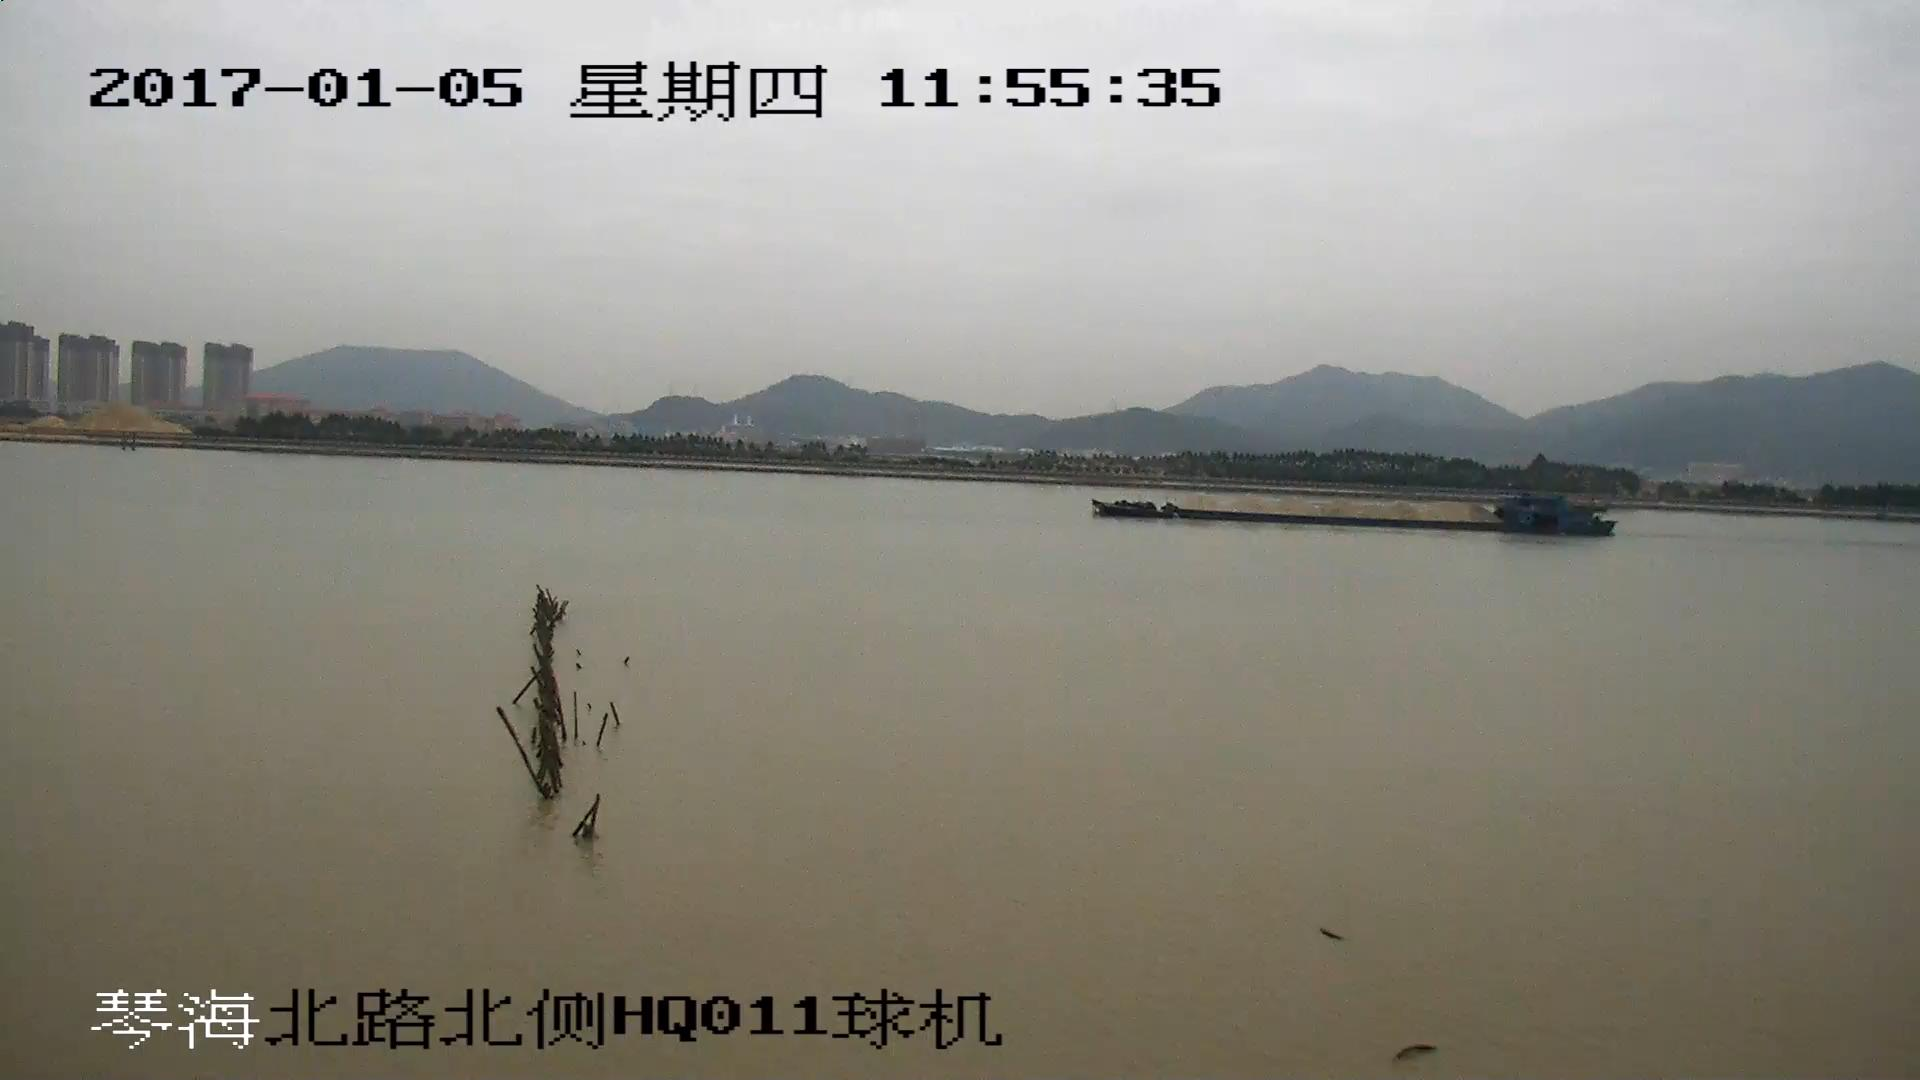ore carrier: (1086, 500, 1620, 538)
